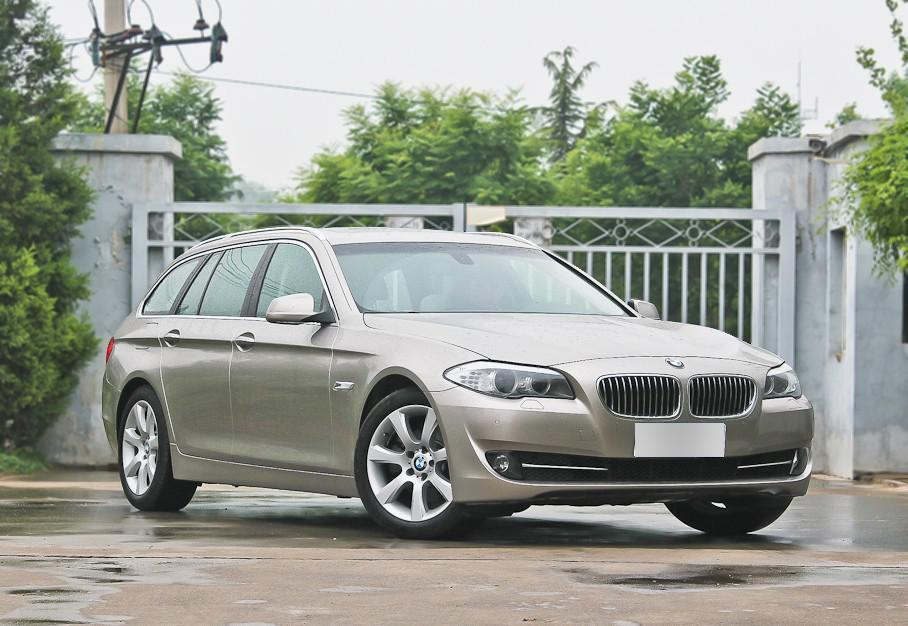Wagon: (99, 225, 815, 541)
